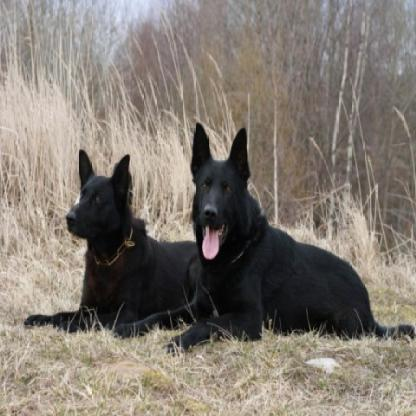german shepherd: (185, 124, 410, 341), (19, 152, 199, 370)
